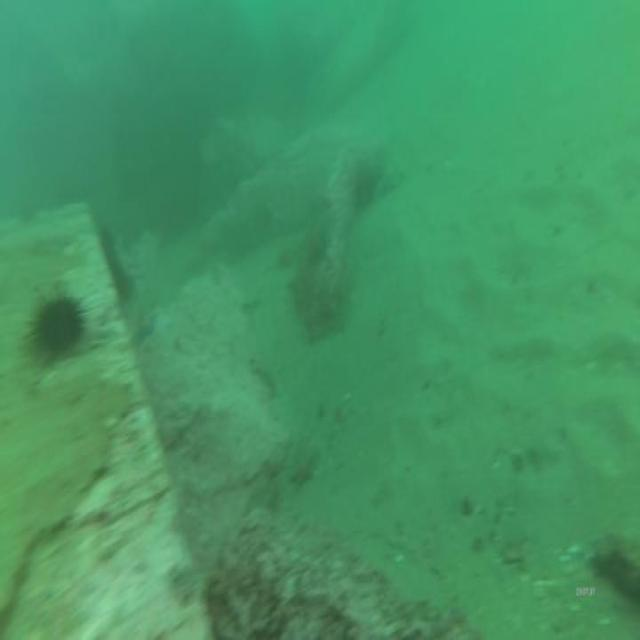echinus: (31, 295, 83, 362)
